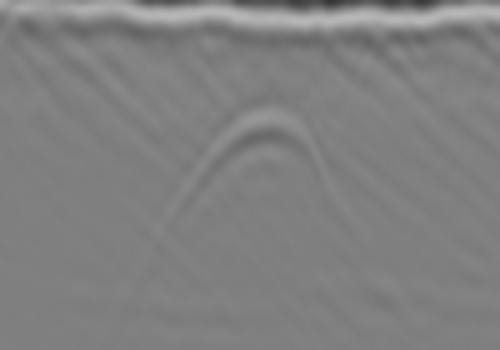hyperbola: (115, 102, 415, 281)
